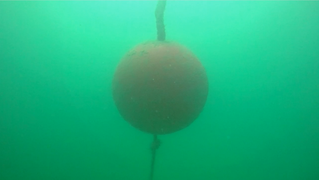bubble: (226, 135, 231, 140)
buoy: (110, 39, 209, 135)
